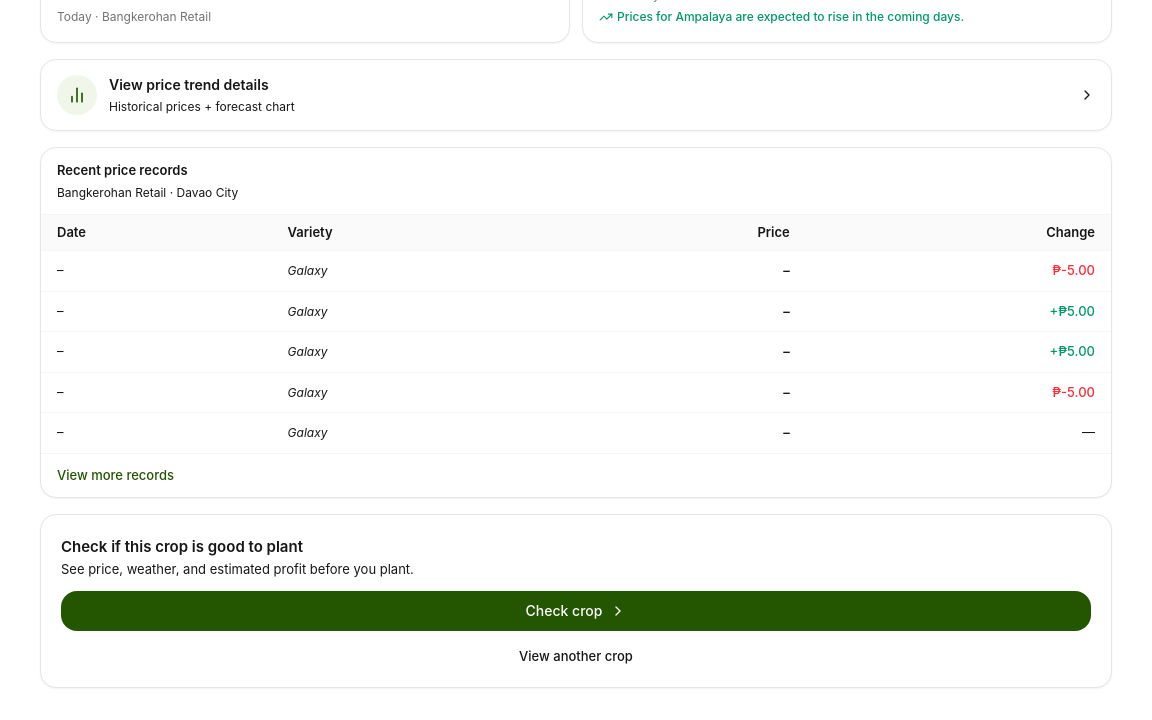
CommodityDetail price detail caching › fetches extended records and displays records in modal when View more records is clicked
The image size is (1152, 720).
(page scrolled)
Click "View more records"
Click the button "View more records" at (116, 476), box [57,466,174,485]
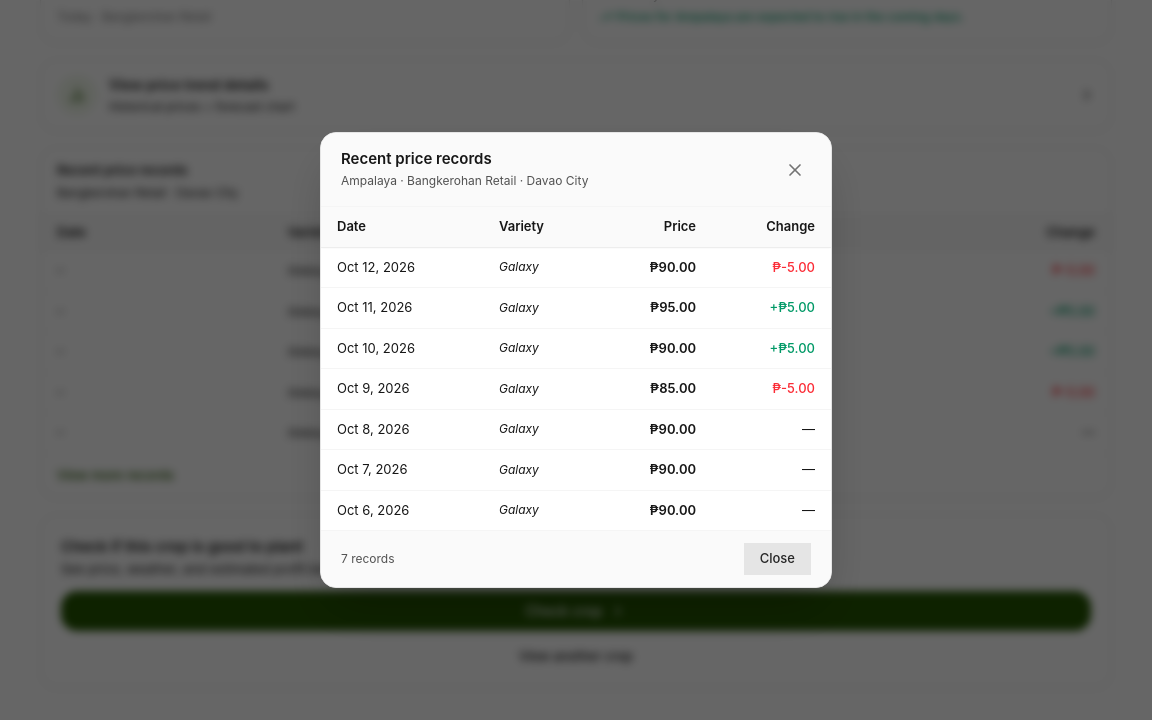
Result: the dialog is shown
Result: the text "7 records" is shown at [341,550,394,568]
Close the modal
Click the button "Close" at (777, 559), box [744,543,811,575]
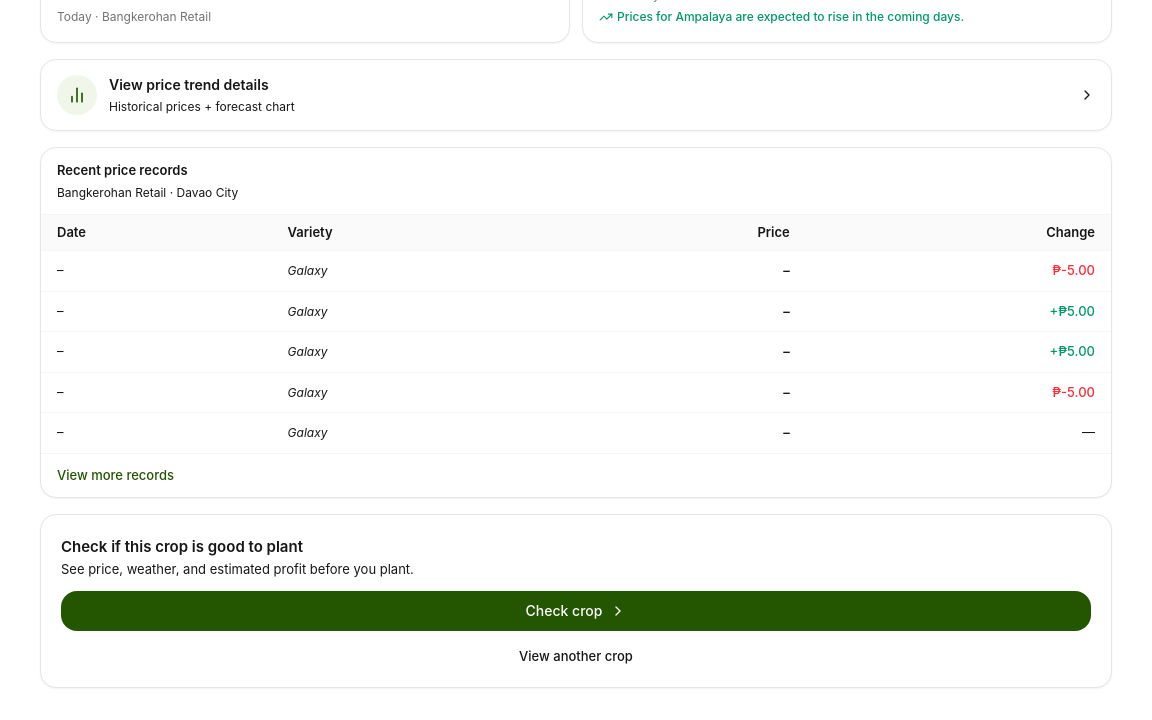
Result: the dialog is gone
